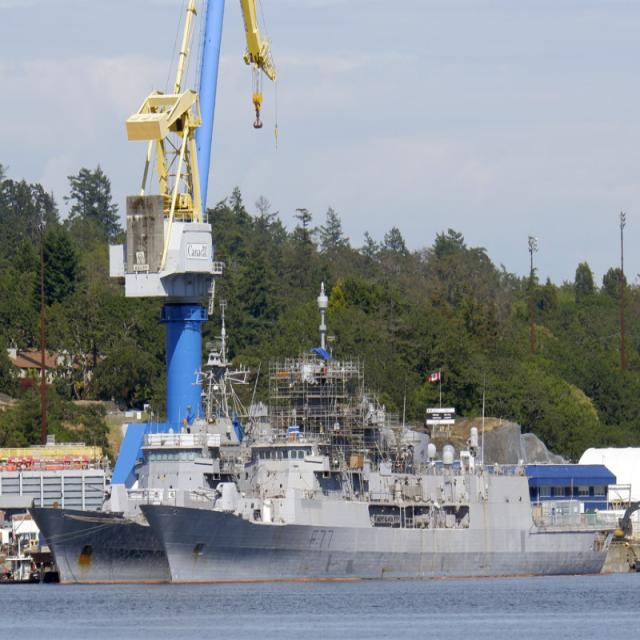Fragata: (145, 327, 621, 592)
